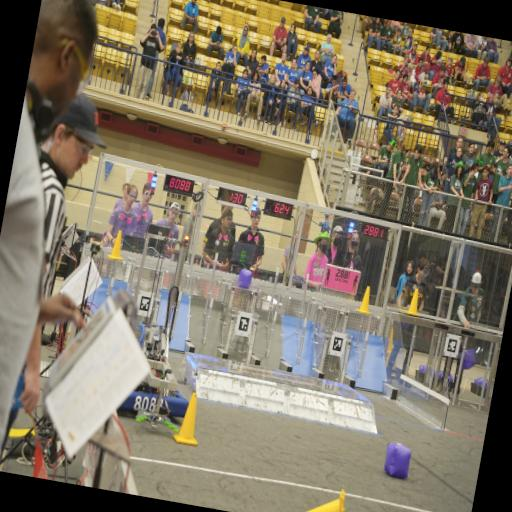robot: (107, 224, 218, 422)
